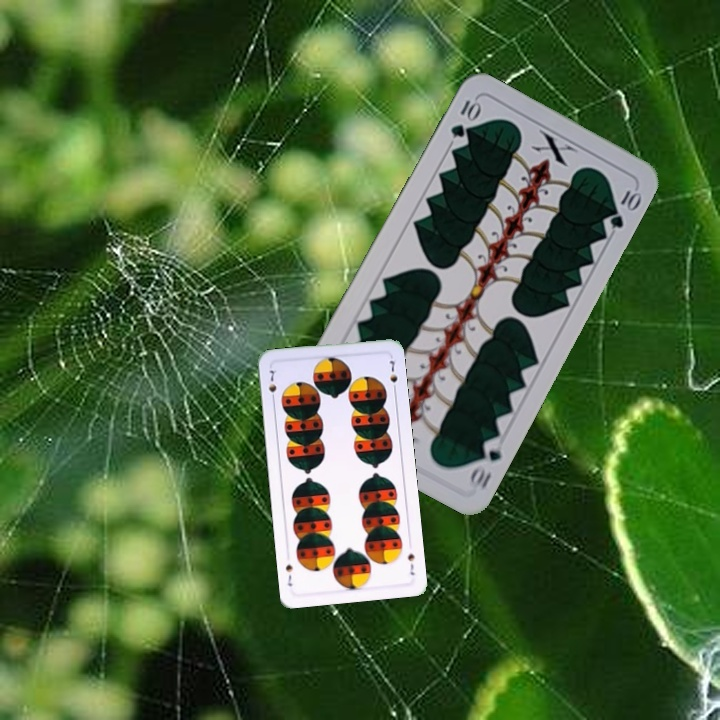G10: (464, 433, 504, 492), (446, 95, 483, 140)
S7: (264, 366, 279, 404), (404, 549, 417, 578)
